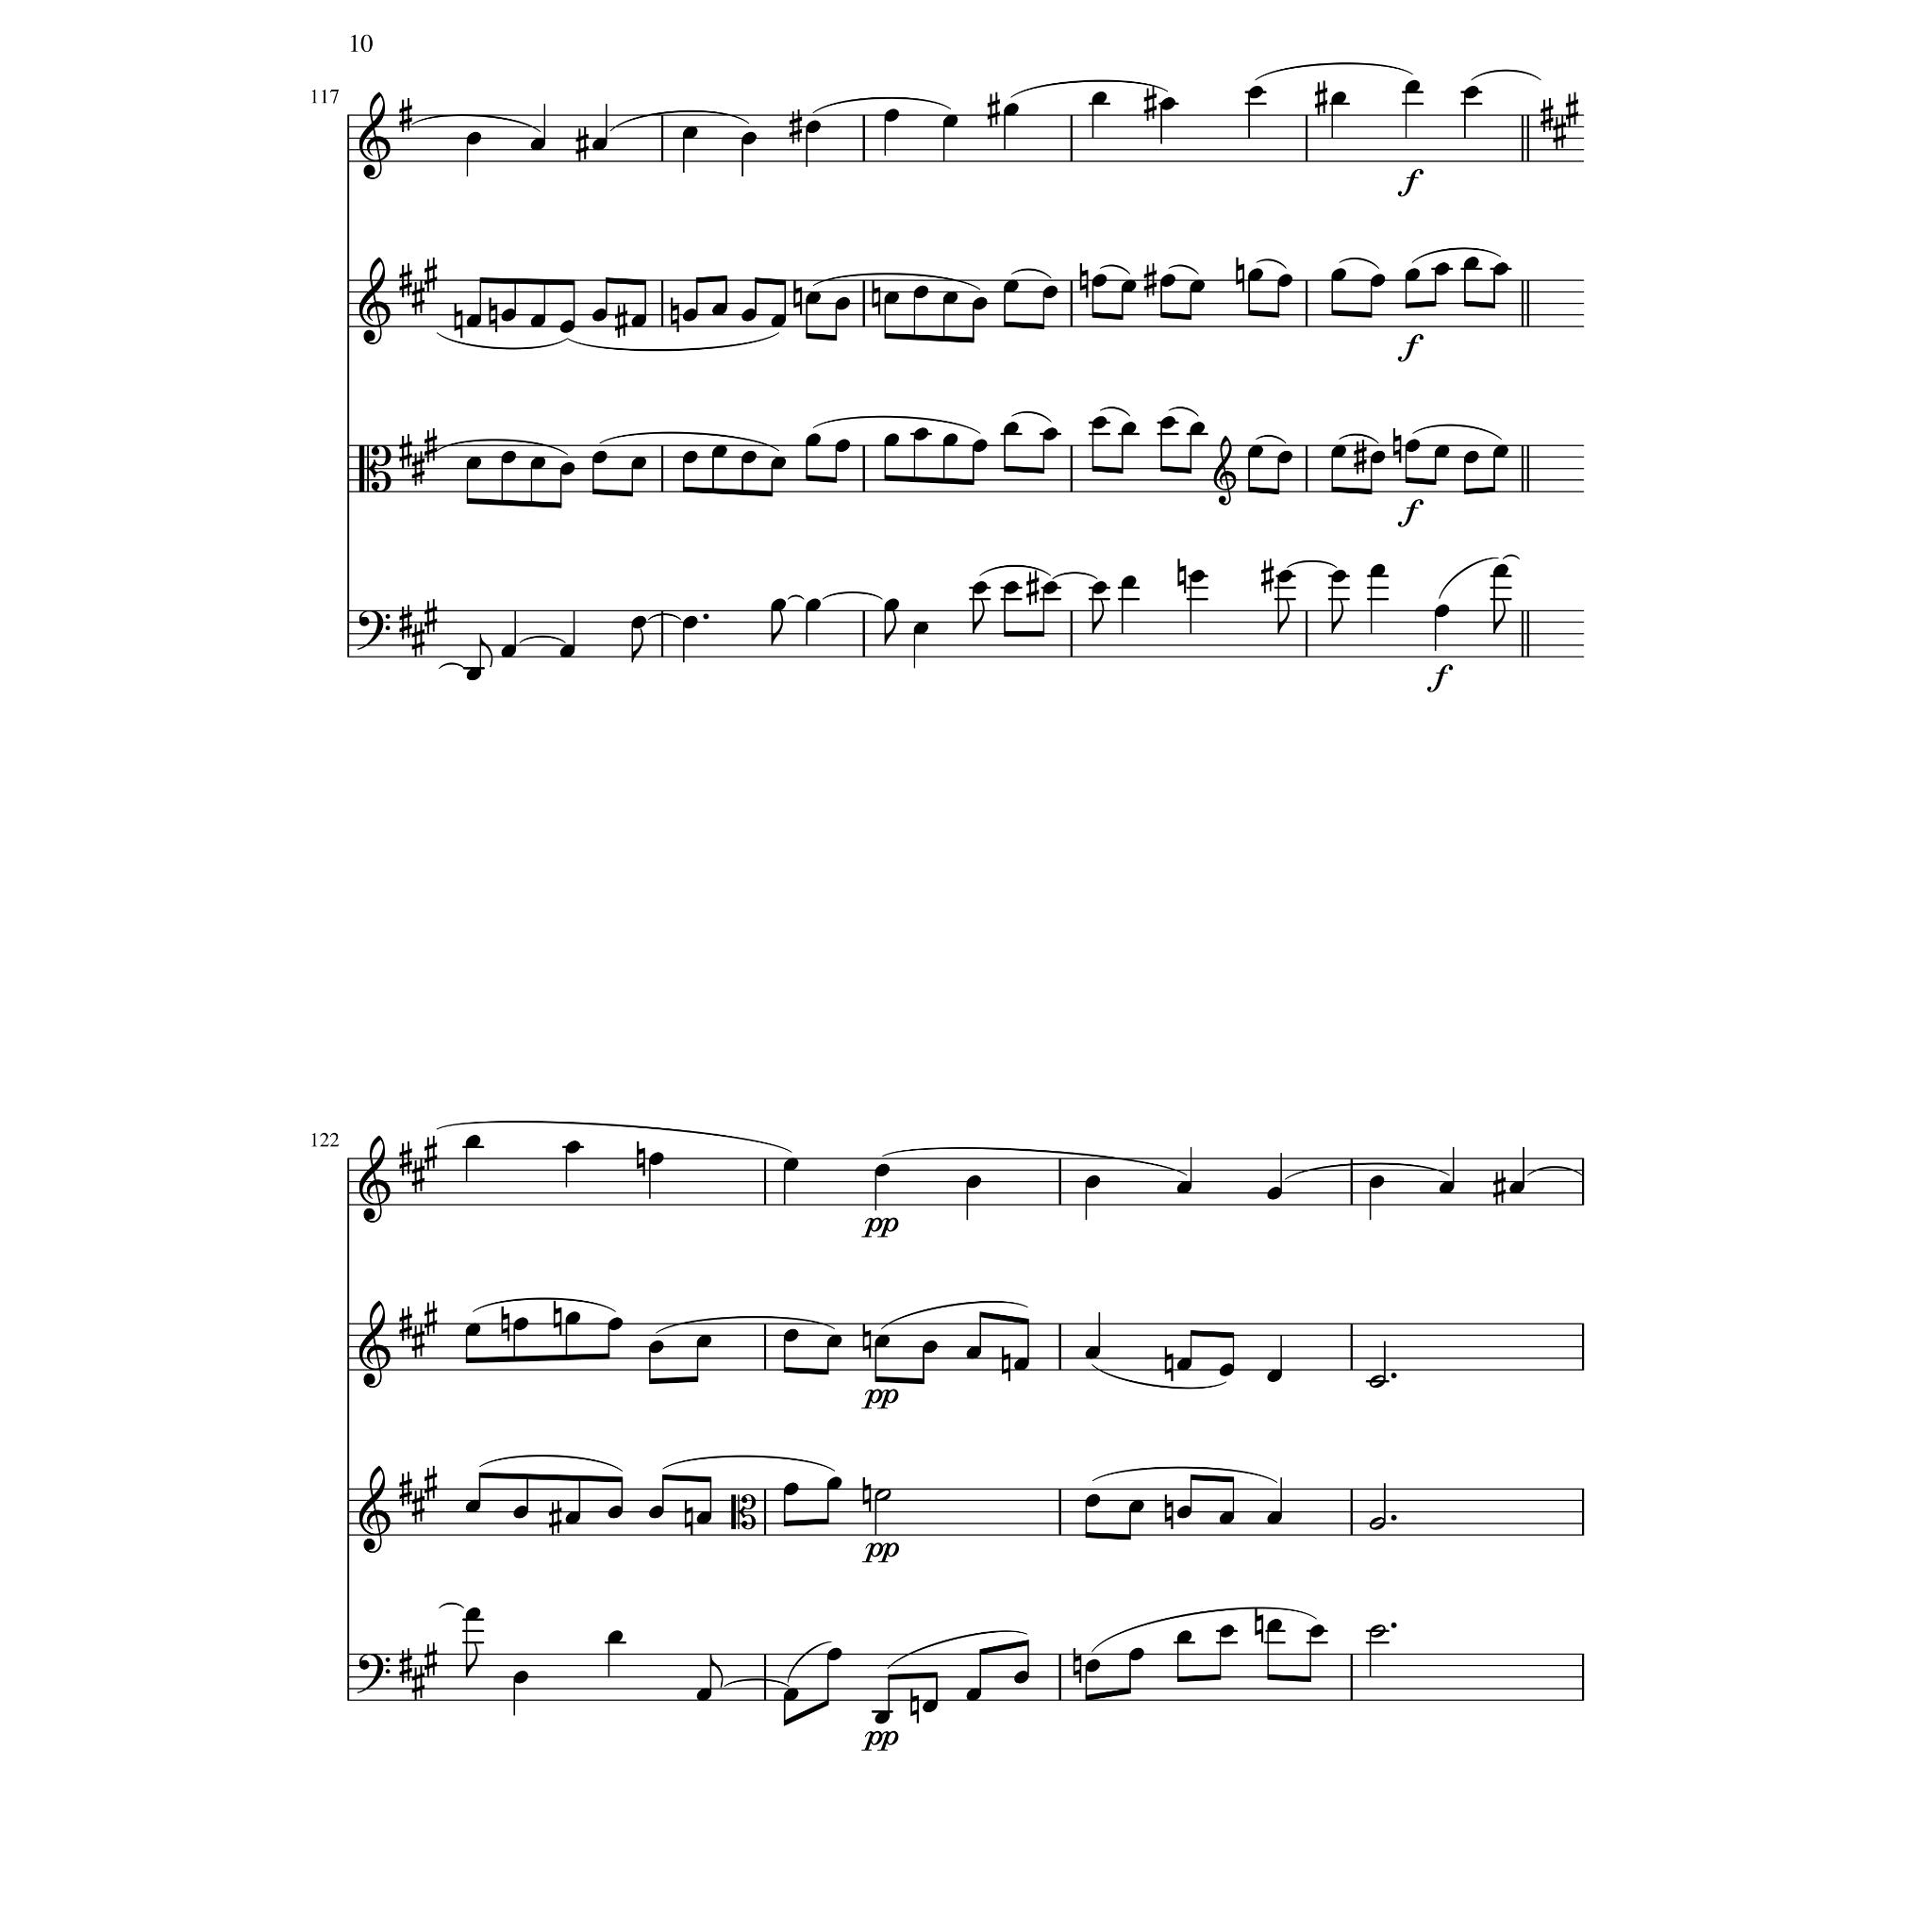fClef: (357, 610, 391, 651), (357, 1652, 391, 1693)
flag8thDown: (885, 610, 897, 646), (771, 610, 784, 646), (1277, 600, 1290, 633), (1092, 600, 1104, 633), (1493, 600, 1506, 633), (1332, 600, 1345, 633), (632, 630, 644, 663), (973, 600, 985, 633), (465, 1644, 478, 1677)
flag8thUp: (479, 633, 492, 669), (709, 1654, 722, 1688)
gClef: (359, 1134, 391, 1224), (359, 257, 391, 345), (359, 92, 391, 180), (359, 1300, 391, 1389), (359, 1465, 391, 1553)
noteheadBlack: (630, 616, 648, 630), (630, 456, 648, 471), (1189, 280, 1205, 294), (1247, 85, 1263, 99), (1189, 570, 1205, 584), (1189, 421, 1205, 435), (1330, 570, 1346, 584), (1277, 570, 1293, 584), (1092, 416, 1108, 430), (1092, 580, 1108, 594), (1042, 428, 1058, 442), (1042, 580, 1058, 594), (1120, 280, 1136, 294), (1120, 421, 1136, 435), (1120, 575, 1136, 589), (1493, 262, 1509, 276), (1433, 262, 1449, 276), (1463, 85, 1479, 99), (1405, 80, 1421, 94), (1405, 439, 1421, 453), (559, 320, 575, 334), (559, 462, 575, 476), (559, 644, 575, 658), (593, 308, 609, 322), (711, 303, 727, 317), (681, 126, 697, 140), (681, 308, 697, 322), (681, 616, 697, 630), (465, 456, 481, 471), (501, 308, 517, 322), (501, 644, 517, 658), (913, 428, 929, 442), (913, 621, 929, 635), (883, 290, 899, 304), (883, 433, 899, 448), (971, 580, 987, 594), (971, 439, 987, 453), (1003, 280, 1019, 294), (1003, 421, 1019, 435), (1003, 580, 1019, 594), (941, 115, 957, 129), (941, 290, 957, 304), (941, 433, 957, 448), (770, 456, 786, 471), (805, 120, 821, 134), (805, 290, 821, 304), (805, 433, 821, 448), (741, 308, 757, 322), (835, 439, 851, 453), (1177, 1629, 1192, 1644), (1177, 1357, 1192, 1371), (1129, 1647, 1145, 1661), (1129, 1500, 1145, 1514), (1219, 1624, 1235, 1638), (1219, 1511, 1235, 1525), (1267, 1187, 1283, 1201), (1219, 1362, 1235, 1376), (1085, 1175, 1100, 1189), (1014, 1357, 1030, 1371), (1014, 1670, 1030, 1684), (1309, 1624, 1325, 1638), (1368, 1175, 1384, 1189), (1267, 1619, 1283, 1633), (1267, 1511, 1283, 1525), (607, 1316, 623, 1330), (607, 1629, 623, 1644), (564, 1311, 580, 1325), (564, 1511, 580, 1525), (695, 1334, 711, 1348), (695, 1511, 711, 1525), (648, 1152, 663, 1166), (513, 1316, 529, 1330), (513, 1670, 529, 1684), (465, 1134, 481, 1148), (465, 1323, 481, 1338), (465, 1500, 481, 1514), (465, 1606, 481, 1621), (874, 1334, 890, 1348), (874, 1711, 890, 1725), (826, 1334, 842, 1348), (826, 1476, 842, 1490), (922, 1698, 938, 1713), (966, 1175, 982, 1189), (826, 1647, 842, 1661), (782, 1157, 798, 1171), (782, 1329, 798, 1343), (1369, 274, 1387, 287), (1369, 451, 1387, 464), (1369, 564, 1387, 577), (630, 315, 648, 327), (1161, 416, 1175, 430), (531, 456, 545, 471), (1247, 269, 1263, 281), (1247, 446, 1263, 458), (1330, 92, 1346, 104), (1330, 269, 1346, 281), (1330, 446, 1346, 458), (1277, 274, 1293, 287), (1277, 451, 1293, 464), (1092, 92, 1108, 104), (1092, 274, 1108, 287), (1042, 287, 1058, 299), (1493, 564, 1509, 577), (1493, 446, 1509, 458), (1433, 446, 1449, 458), (1433, 605, 1449, 617), (1463, 257, 1479, 269), (1463, 451, 1479, 464), (1405, 269, 1421, 281), (593, 138, 609, 150), (593, 451, 609, 464), (711, 446, 727, 458), (681, 451, 697, 464), (465, 133, 481, 145), (465, 315, 481, 327), (465, 669, 481, 681), (501, 451, 517, 464), (913, 287, 929, 299), (883, 600, 899, 612), (1003, 104, 1019, 117), (971, 297, 987, 310), (770, 315, 786, 327), (770, 600, 786, 612), (883, 110, 899, 122), (805, 600, 821, 612), (741, 133, 757, 145), (741, 451, 757, 464), (835, 297, 851, 310), (1177, 1506, 1192, 1518), (1177, 1182, 1192, 1194), (1267, 1369, 1283, 1382), (1085, 1346, 1100, 1359), (1085, 1495, 1100, 1507), (1085, 1660, 1100, 1672), (1509, 1182, 1525, 1194), (1438, 1182, 1454, 1194), (607, 1506, 623, 1518), (564, 1141, 580, 1154), (648, 1341, 663, 1353), (648, 1506, 663, 1518), (513, 1506, 529, 1518), (874, 1164, 890, 1177), (695, 1688, 711, 1700), (922, 1341, 938, 1353), (966, 1346, 982, 1359), (966, 1688, 982, 1700), (782, 1483, 798, 1495), (782, 1688, 798, 1700), (1161, 97, 1175, 110), (1161, 274, 1175, 287), (531, 138, 545, 150), (531, 315, 545, 327)
noteheadHalf: (874, 1488, 892, 1502), (1369, 1516, 1385, 1530), (1369, 1624, 1385, 1638), (1369, 1375, 1385, 1387)
